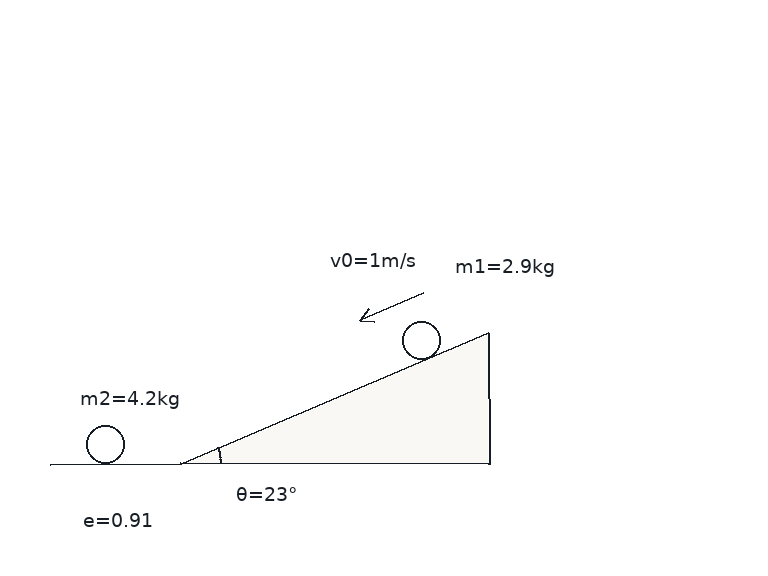ball: (400, 319, 442, 361), (84, 423, 126, 465)
ramp: (179, 331, 490, 465)
